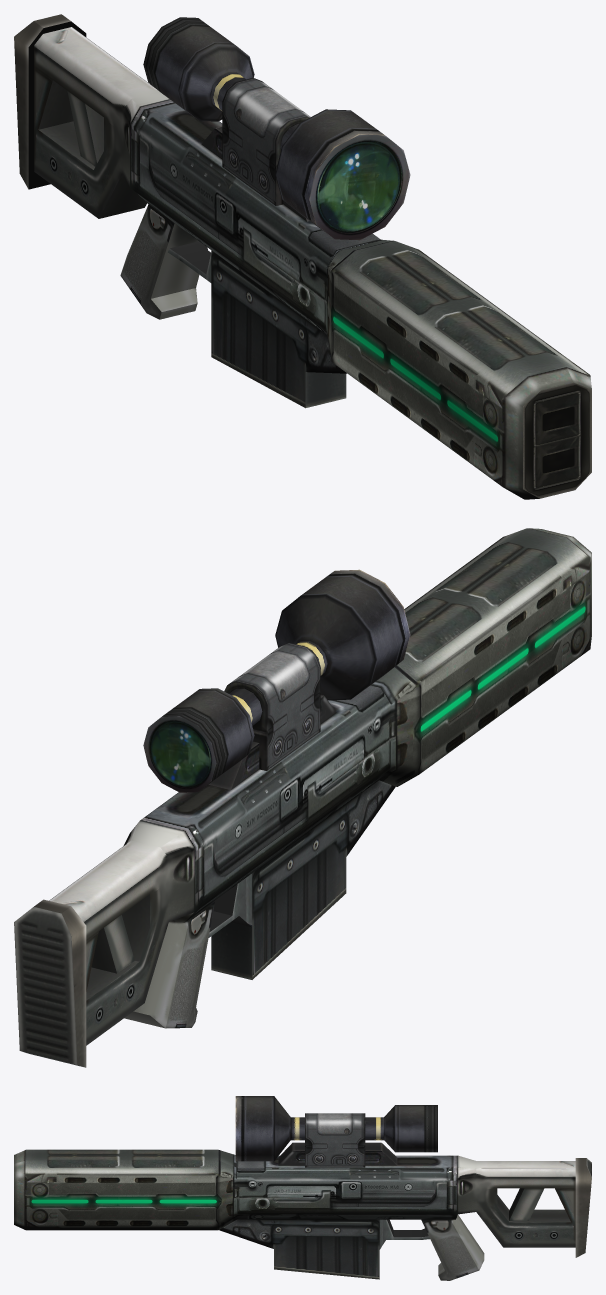
File: w_snip03.FBX
The picture shows the model from 3 angles, top to bottom: view 1: azimuth 30°, elevation 25°; view 2: azimuth 150°, elevation 25°; view 3: azimuth 270°, elevation 25°; orthographic projection. The views are drawn at different scales.
Visible parts, largest first — view 1: w_snip03_mesh; view 2: w_snip03_mesh; view 3: w_snip03_mesh.
Boxes of the visible parts, x1,y1,x2,y2 form: w_snip03_mesh: (14,14,591,499); w_snip03_mesh: (14,528,591,1067); w_snip03_mesh: (14,1096,591,1280).
Bounding box in the file's own units: 14.02 × 41.71 × 124.
Materials: 1 (1 with a texture image).
